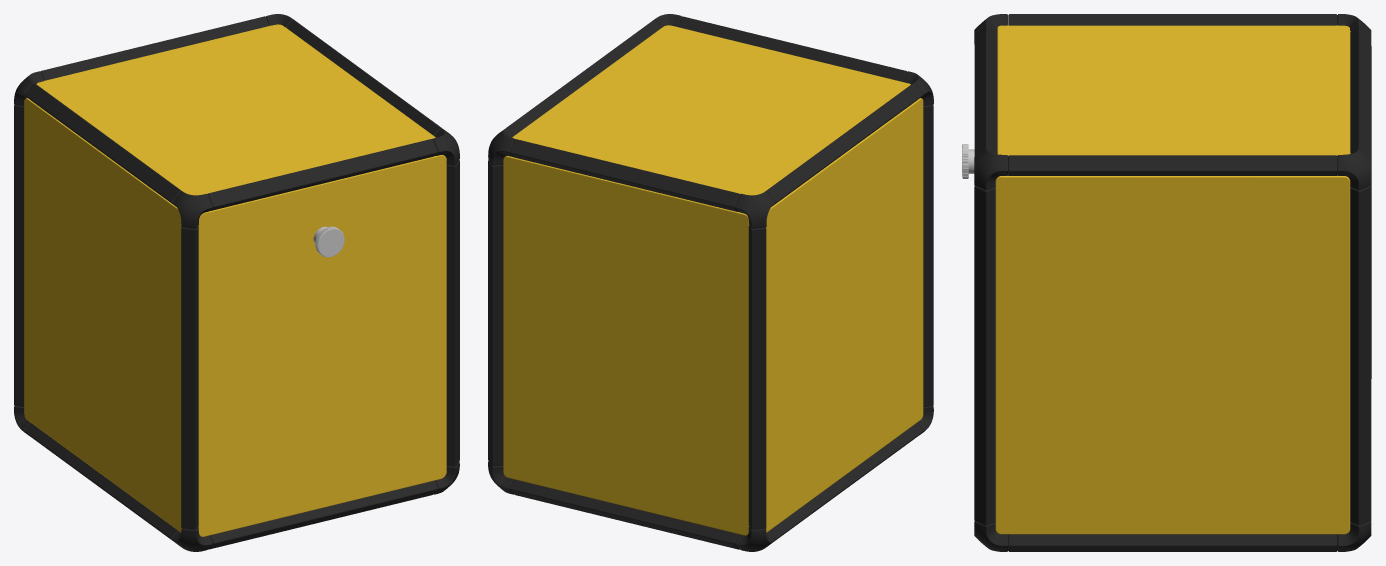
3 renders of one model, left to right at view 1: azimuth 30°, elevation 25°; view 2: azimuth 150°, elevation 25°; view 3: azimuth 270°, elevation 25°, orthographic. The views are drawn at different scales.
Parts seen in each view (by area): view 1: 329x374x420; view 2: 329x374x420; view 3: 329x374x420.
Part boxes in pixels (x1=…): 329x374x420: x1=14, y1=14, x2=459, y2=551; 329x374x420: x1=488, y1=14, x2=933, y2=551; 329x374x420: x1=962, y1=14, x2=1371, y2=551.
Size of the model in its own units: 0.4067 by 0.4976 by 0.4646.
